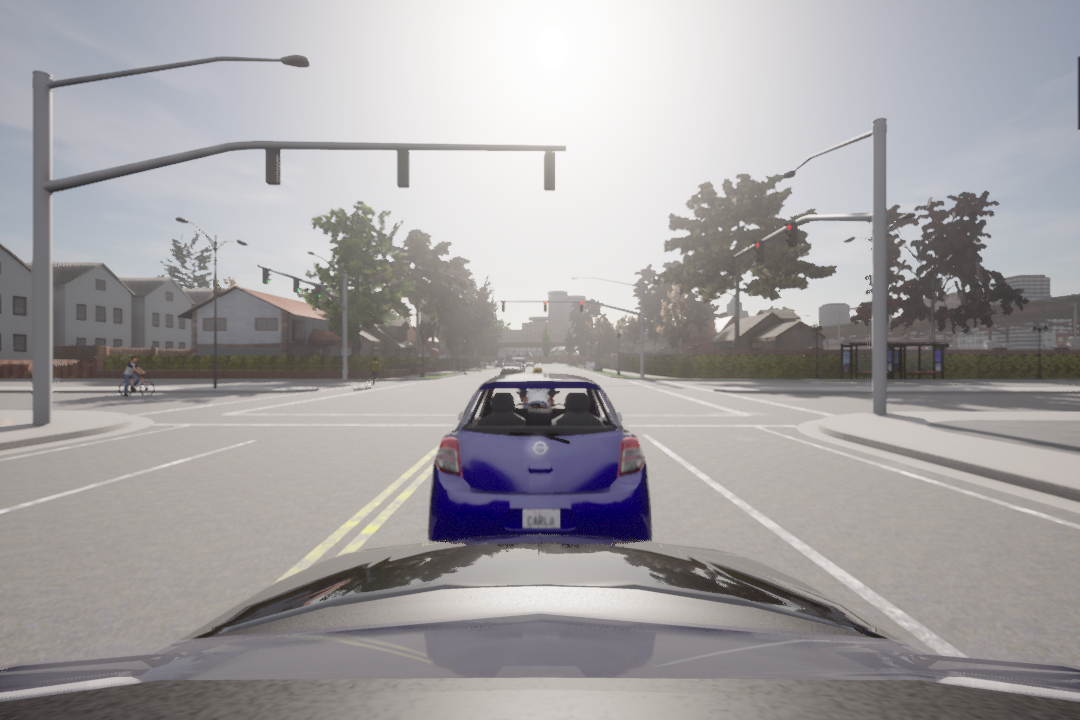TrafficLight: (784, 219, 801, 251), (751, 240, 767, 267), (259, 267, 271, 287), (293, 277, 301, 294)
